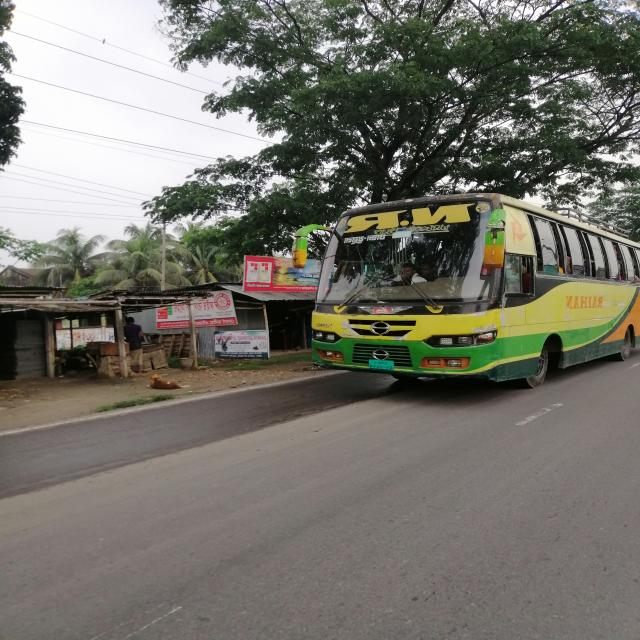Bus: (274, 186, 640, 394)
